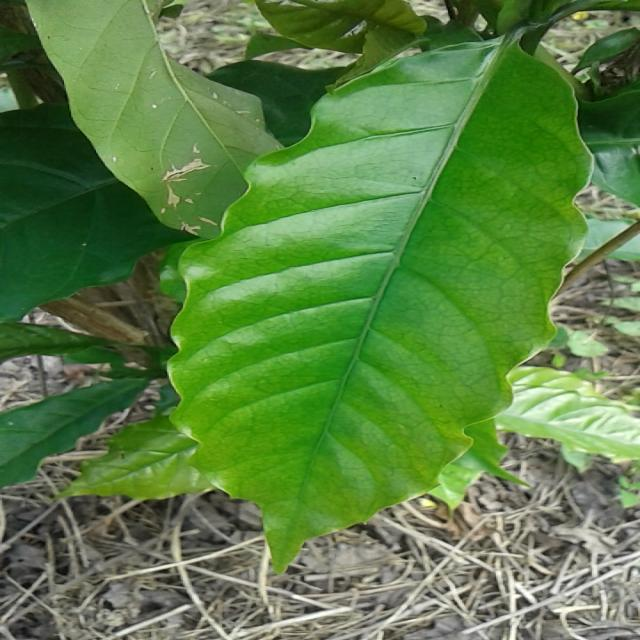Sanas: (161, 30, 593, 576)
